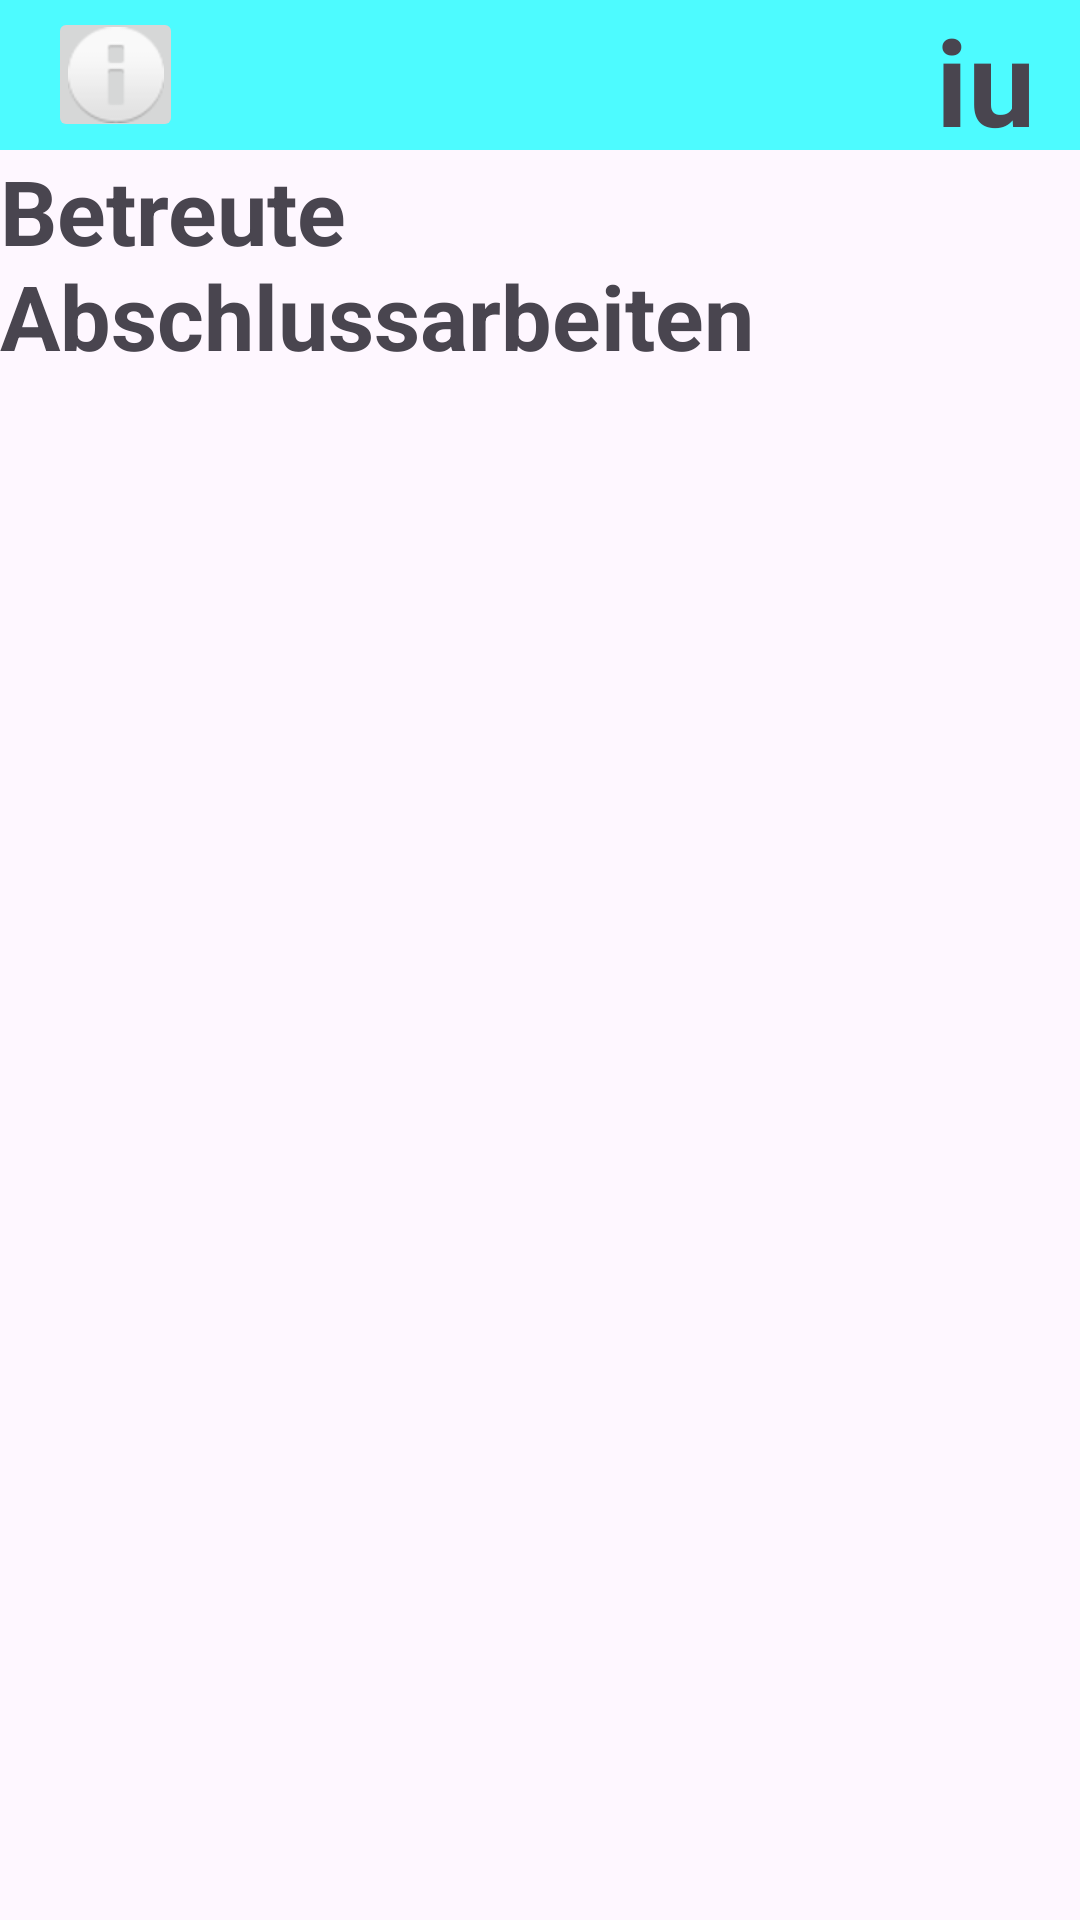

Icons on this 1080 x 1920 Android screen, each with the point to tap as (x,y):
info: (115,74)
